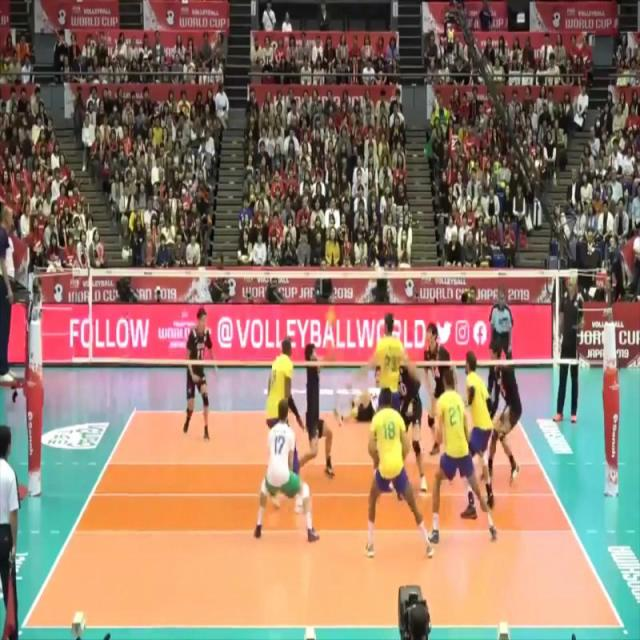volleyball: (324, 305, 339, 332)
